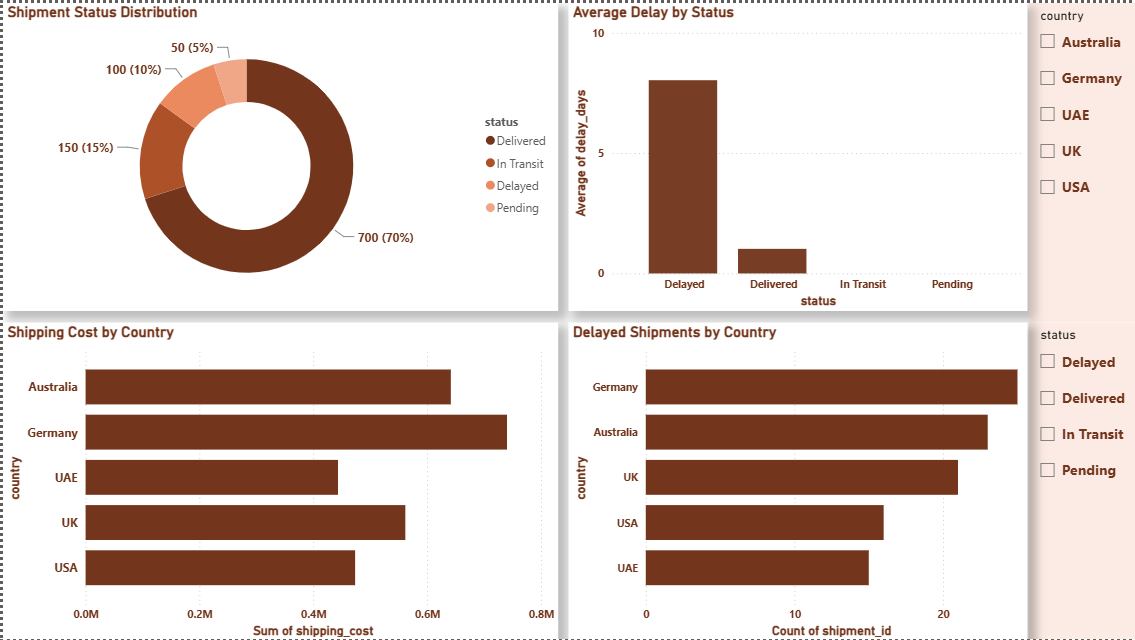

This screenshot's page, from the dashboard's own definition file:
{"tool":"powerbi","page":{"name":"Shipment Analysis","canvas":[1280,720],"ordinal":3},"visuals":[{"type":"donutChart","title":"Shipment Status Distribution","fields":{"Category":["Shipment.status"],"Y":["CountNonNull(Shipment.shipment_id)"]},"box":[0,0,627.6,348.3],"z":0},{"type":"columnChart","title":"Average Delay by Status","fields":{"Category":["Shipment.status"],"Y":["Avg(Shipment.delay_days)"]},"box":[639.7,0,519,348.3],"z":1000},{"type":"barChart","title":"Shipping Cost by Country","fields":{"Category":["exportOrders.country"],"Y":["Sum(Shipment.shipping_cost)"]},"box":[0,360.3,627.6,360.3],"z":2000},{"type":"slicer","fields":{"Values":["exportOrders.country"]},"box":[1158.6,0,120.7,360.3],"z":3000},{"type":"slicer","fields":{"Values":["Shipment.status"]},"box":[1158.6,360.3,120.7,360.3],"z":4000},{"type":"clusteredBarChart","title":"Delayed Shipments by Country","fields":{"Category":["exportOrders.country"],"Y":["CountNonNull(Shipment.shipment_id)"]},"box":[639.7,360.3,519,360.3],"z":5000}]}

Visuals, with their boxes in screenshot pixels (x1, y1, x2, y2), scaled from the page's 1280x720 canvas onto the 1135x640 screenshot:
"Shipment Status Distribution" donutChart: x1=0, y1=0, x2=557, y2=310
"Average Delay by Status" columnChart: x1=567, y1=0, x2=1027, y2=310
"Shipping Cost by Country" barChart: x1=0, y1=320, x2=557, y2=639
slicer - exportOrders.country: x1=1027, y1=0, x2=1134, y2=320
slicer - Shipment.status: x1=1027, y1=320, x2=1134, y2=639
"Delayed Shipments by Country" clusteredBarChart: x1=567, y1=320, x2=1027, y2=639
